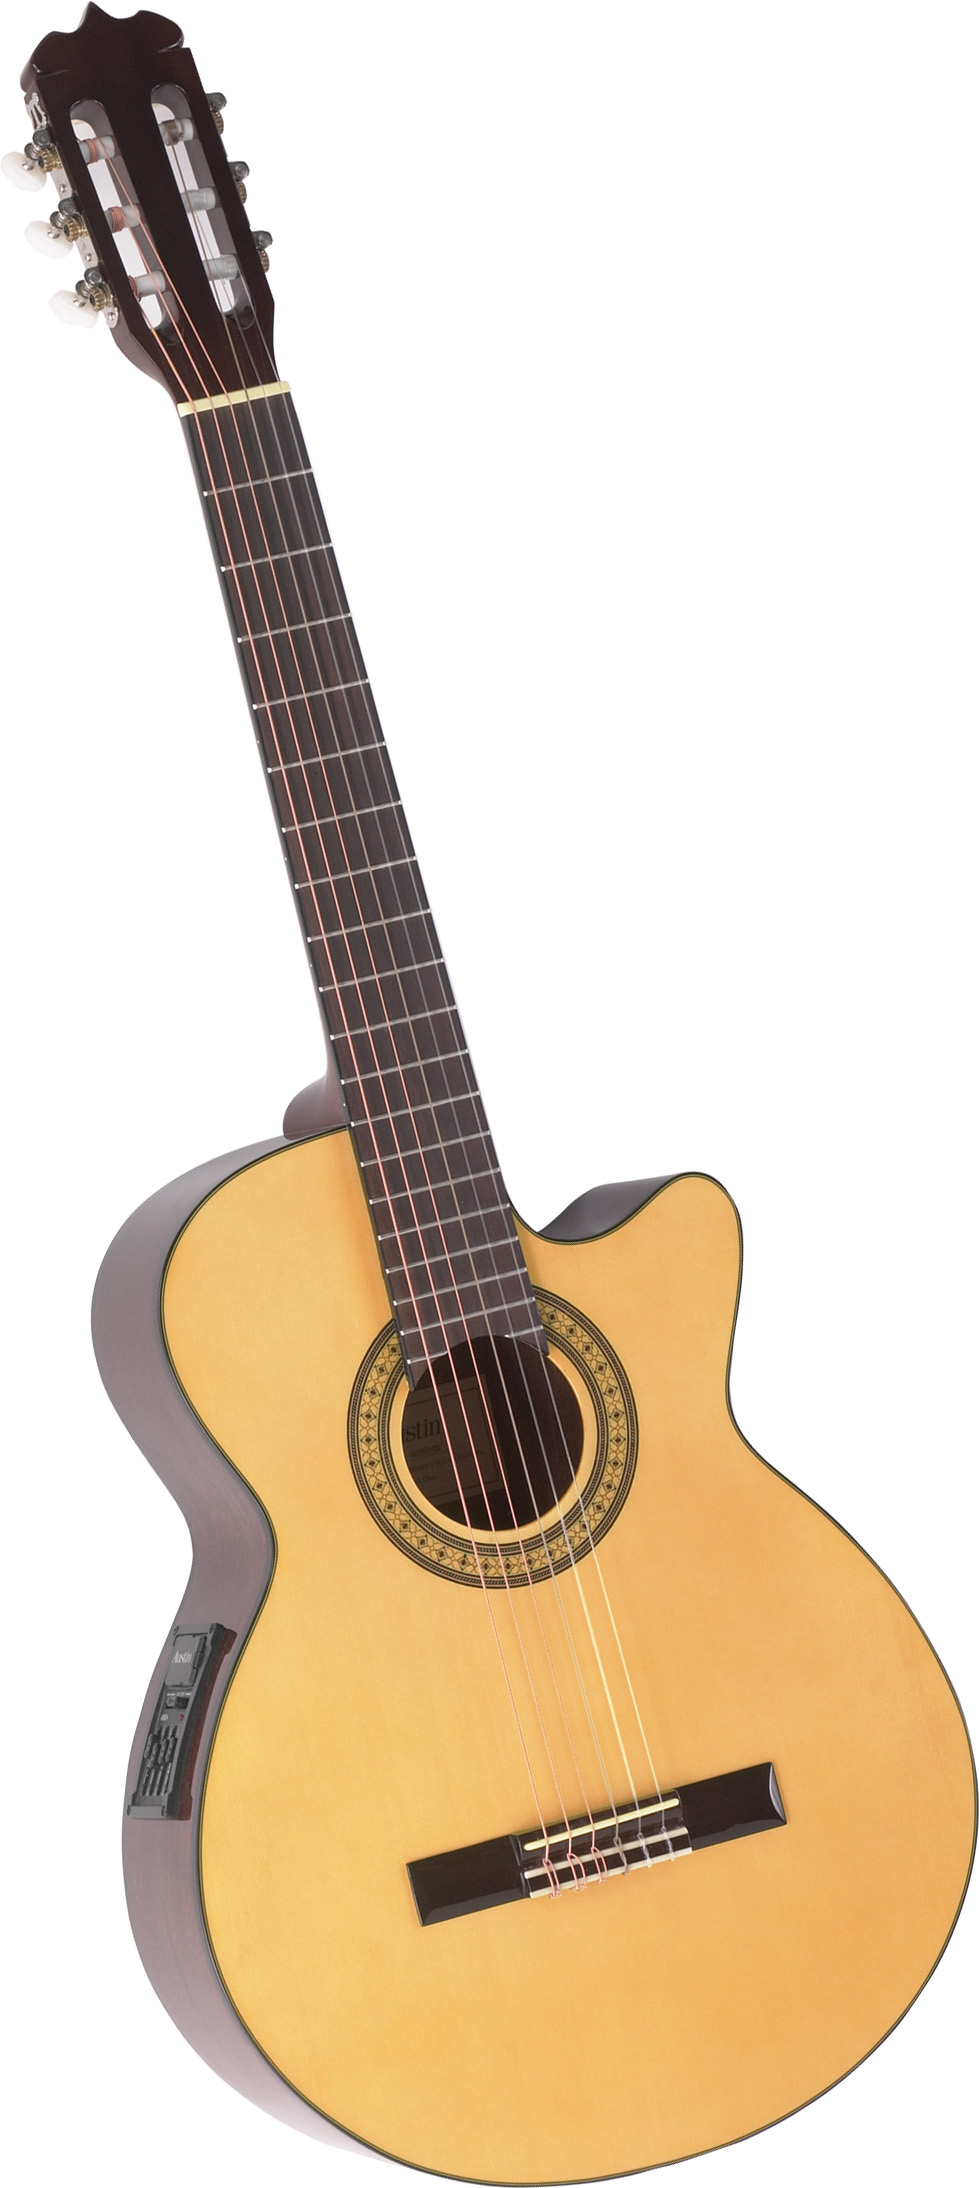guitar: (13, 6, 969, 2188)
